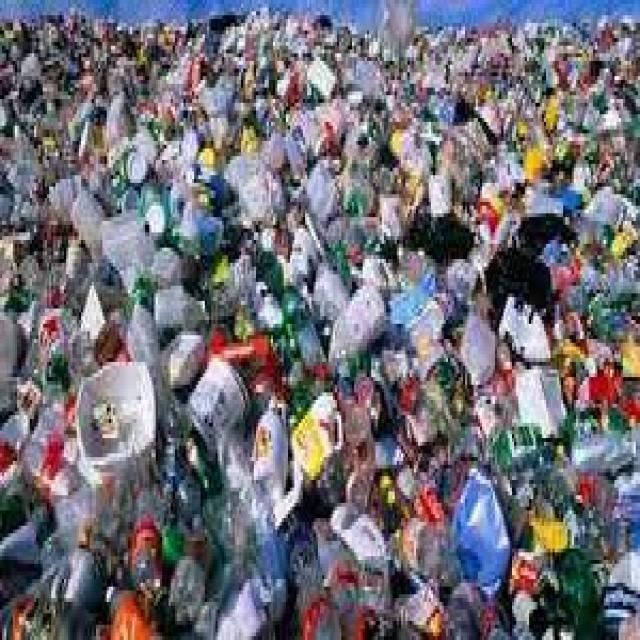heap: (15, 38, 631, 625)
